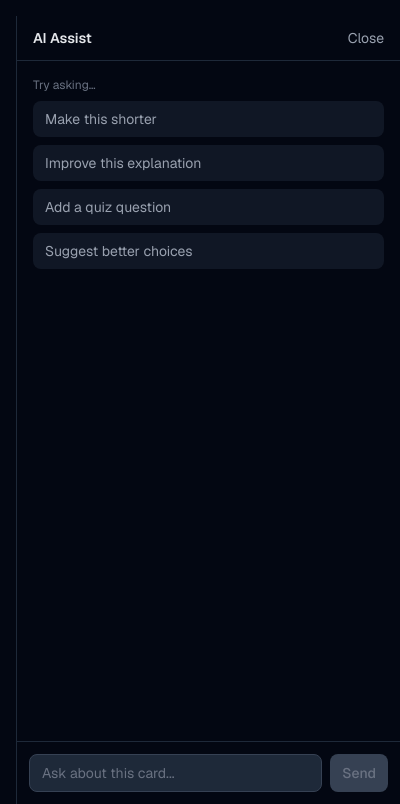
Scenario: AIChatPanel streaming › marks proposal as kept when 'Keep original' is clicked
The width and height of the screenshot is (400, 804).
Click the button "Improve this explanation".
click(123, 163)  # box x1=33 y1=145 x2=384 y2=181
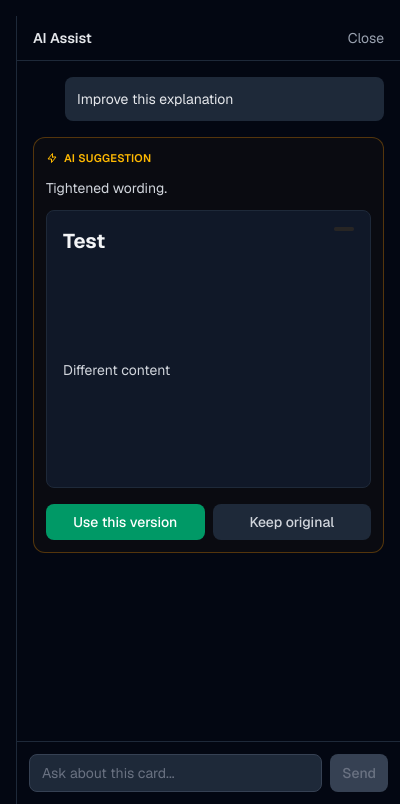
Expected: the button "Keep original" is shown
Click the button "Keep original".
click(292, 522)  # box x1=212 y1=504 x2=371 y2=540
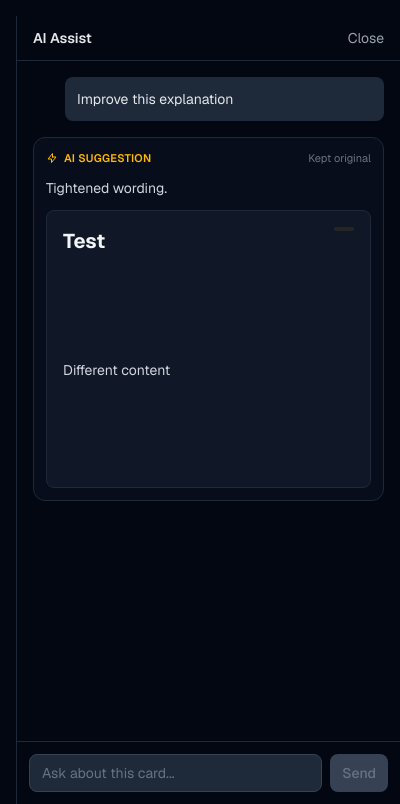
Expected: the button "Use this version" is gone
Expected: the text "Kept original" is shown, x1=308 y1=150 x2=371 y2=166
